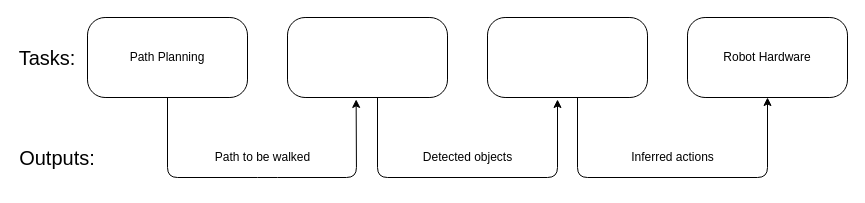
The diagram is 865 pixels wide and 203 high, and some of its shapes have lost their labels. The shapes that lost their labels are listed below. From the top down, each one's centre as x and y in pixels, then its label:
At pixel 367 57: "Object Detection".
At pixel 567 57: "Knowledge Graph".
